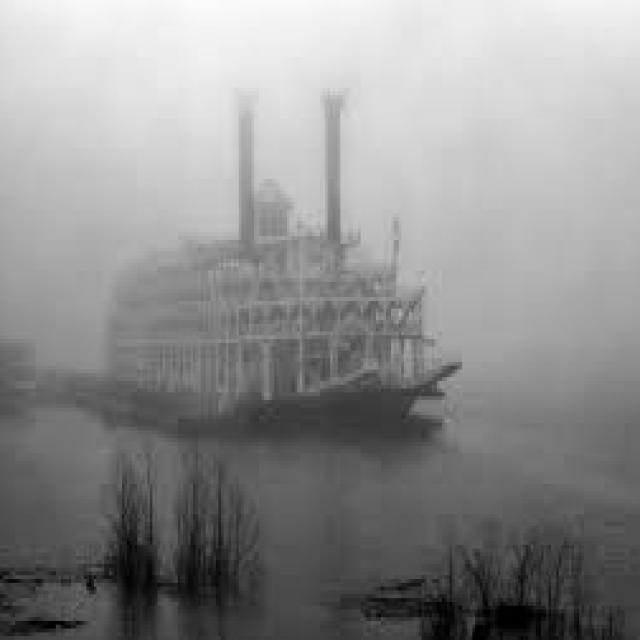passenger ship: (89, 164, 444, 410)
